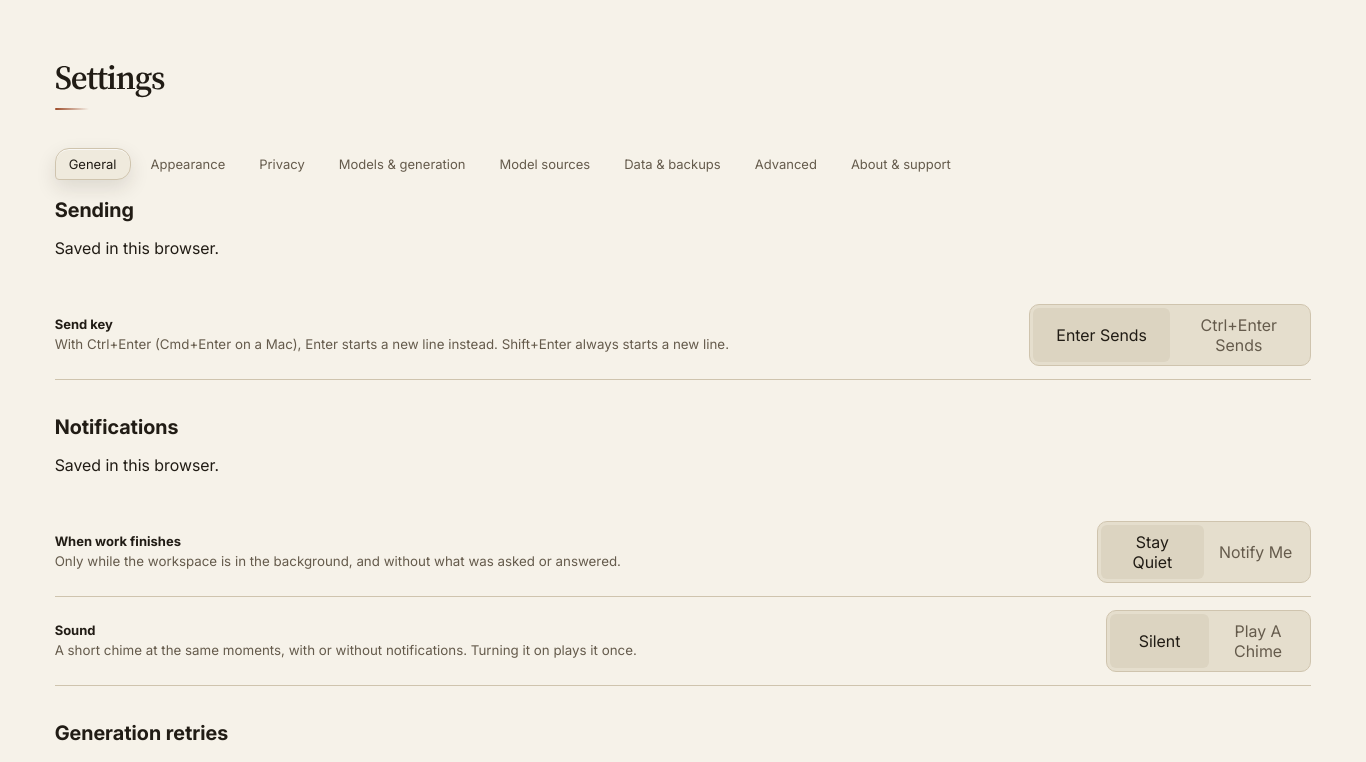
cancels a scheduled restore, says so and offers the backup again
Click the button "Data & backups" at (672, 164), box [610,148,735,180]
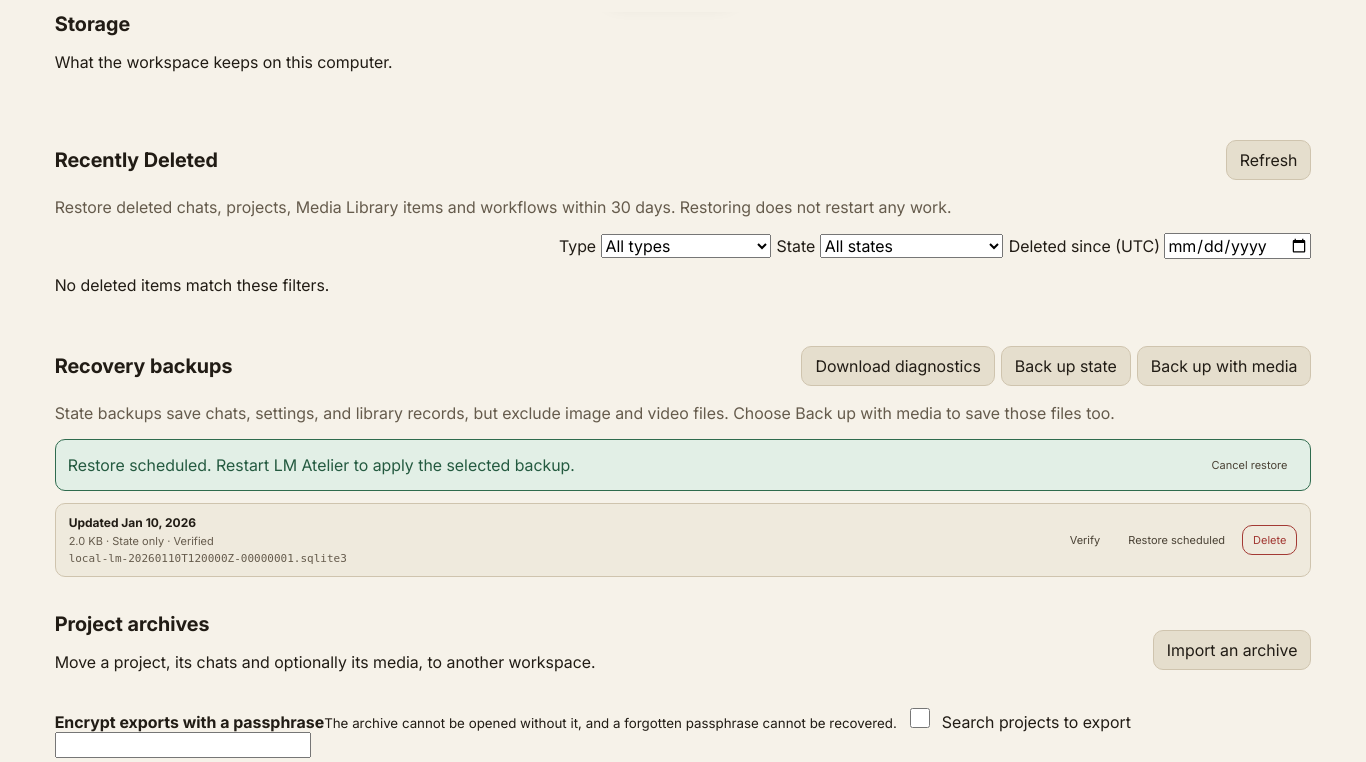
Now the text "Restore scheduled. Restart LM Atelier to apply the selected backup." is shown, box [68,455,575,475]
Click the button "Cancel restore" at (1250, 465), box [1201,450,1298,480]
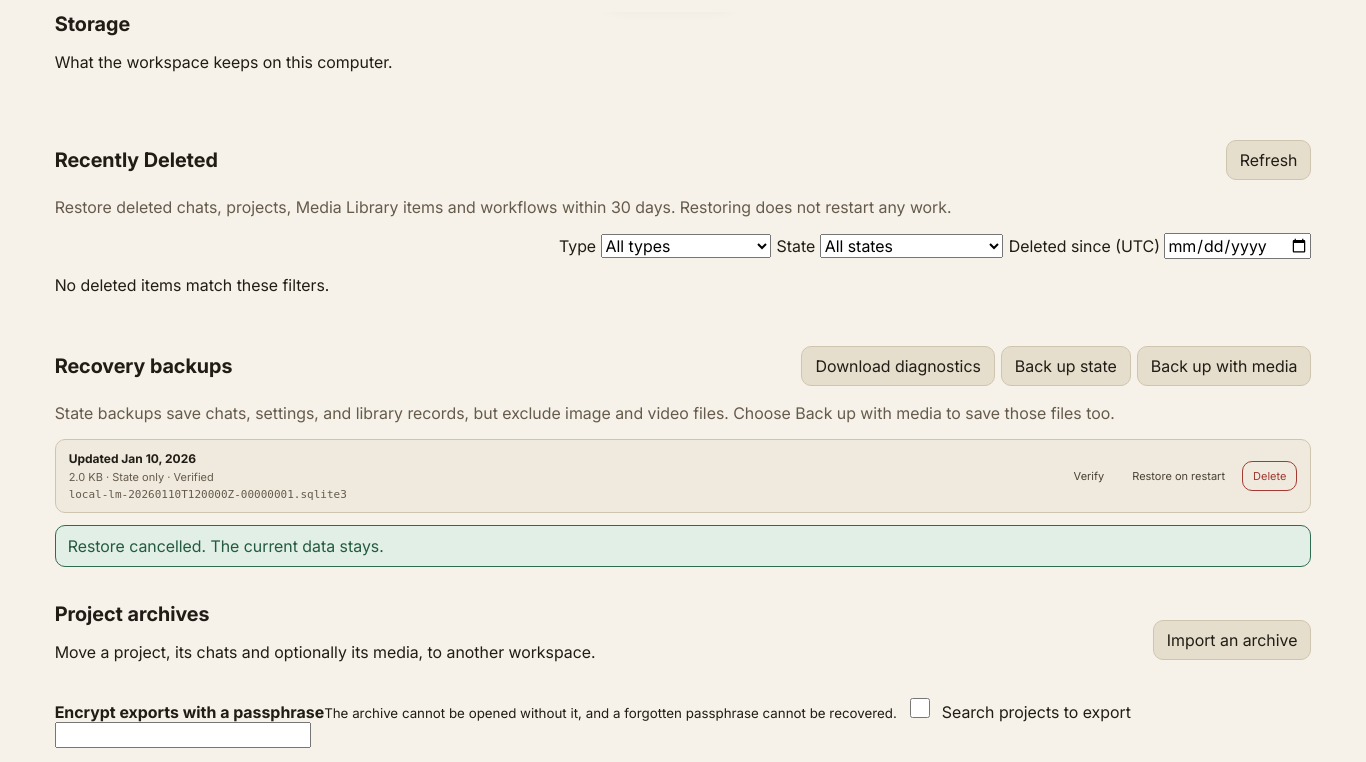
Now the text "Restore cancelled. The current data stays." is shown, box [55,525,1311,567]
Now the text "Restore scheduled. Restart LM Atelier to apply the selected backup." is gone
